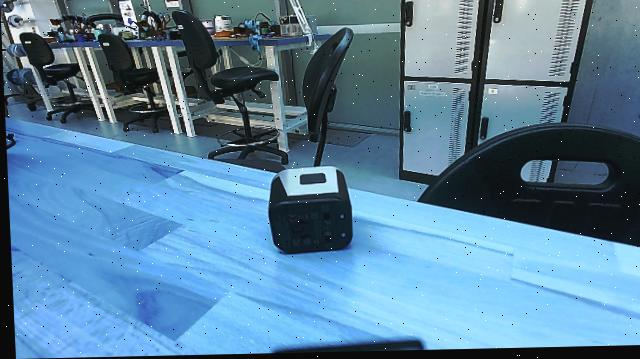adapter: (259, 163, 352, 265)
